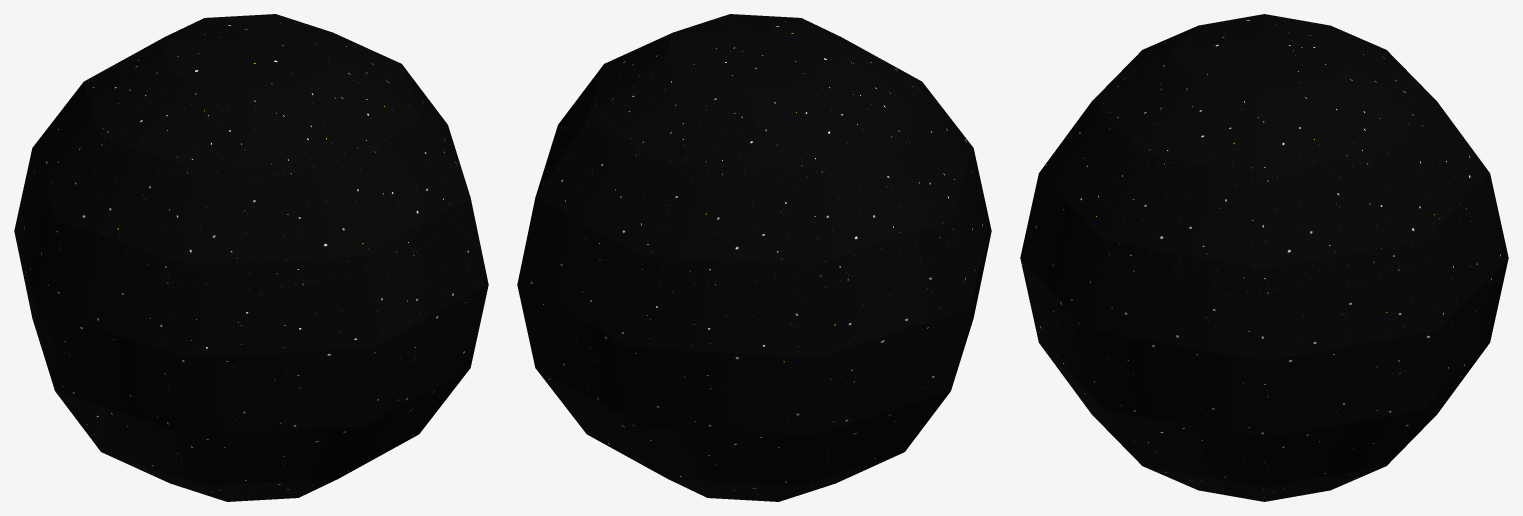
Rendered from Pass2.obj.
The picture shows the model from 3 angles, left to right: view 1: azimuth 30°, elevation 25°; view 2: azimuth 150°, elevation 25°; view 3: azimuth 270°, elevation 25°; orthographic projection.
Size of the model in its own units: 7136 by 7136 by 7136.
Materials: 1 (1 with a texture image).
